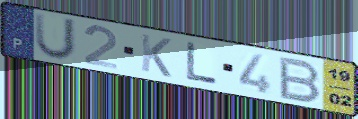2: (81, 24, 122, 72)
4: (237, 53, 274, 95)
B: (277, 55, 324, 105)
K: (139, 31, 173, 80)
L: (185, 40, 220, 87)
U: (33, 11, 80, 63)
